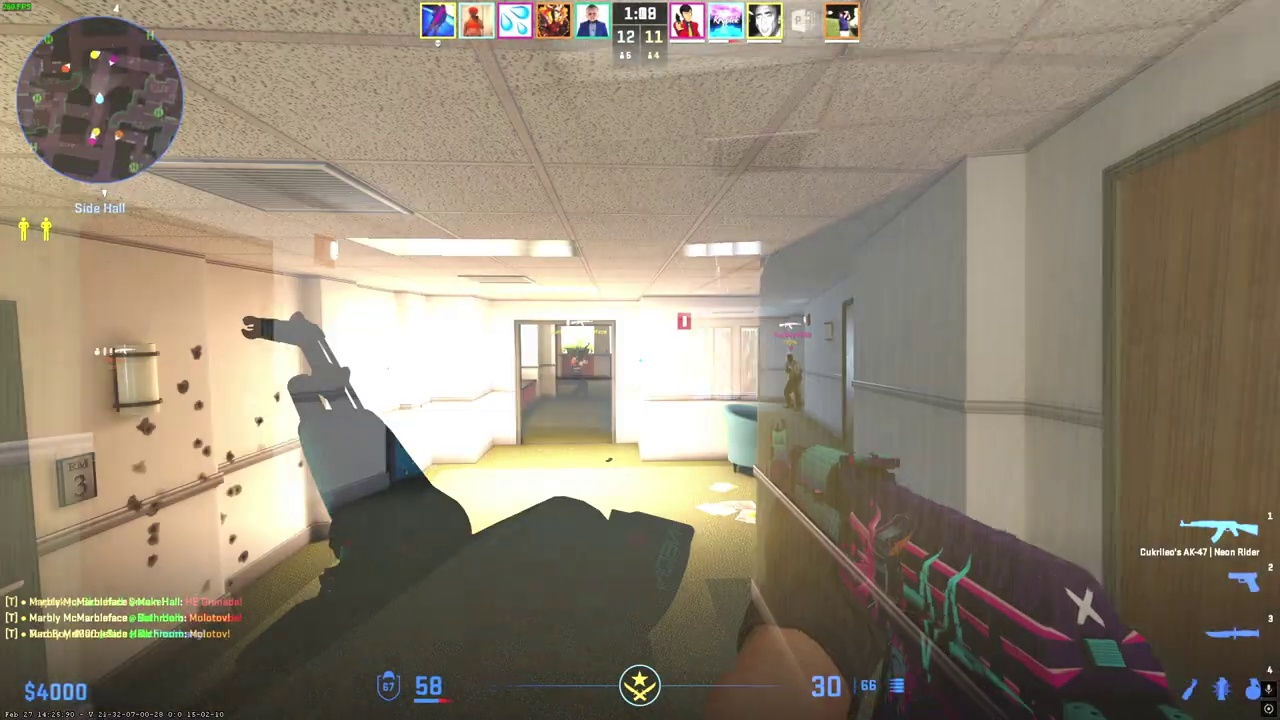Terrorist: (783, 354, 803, 411)
